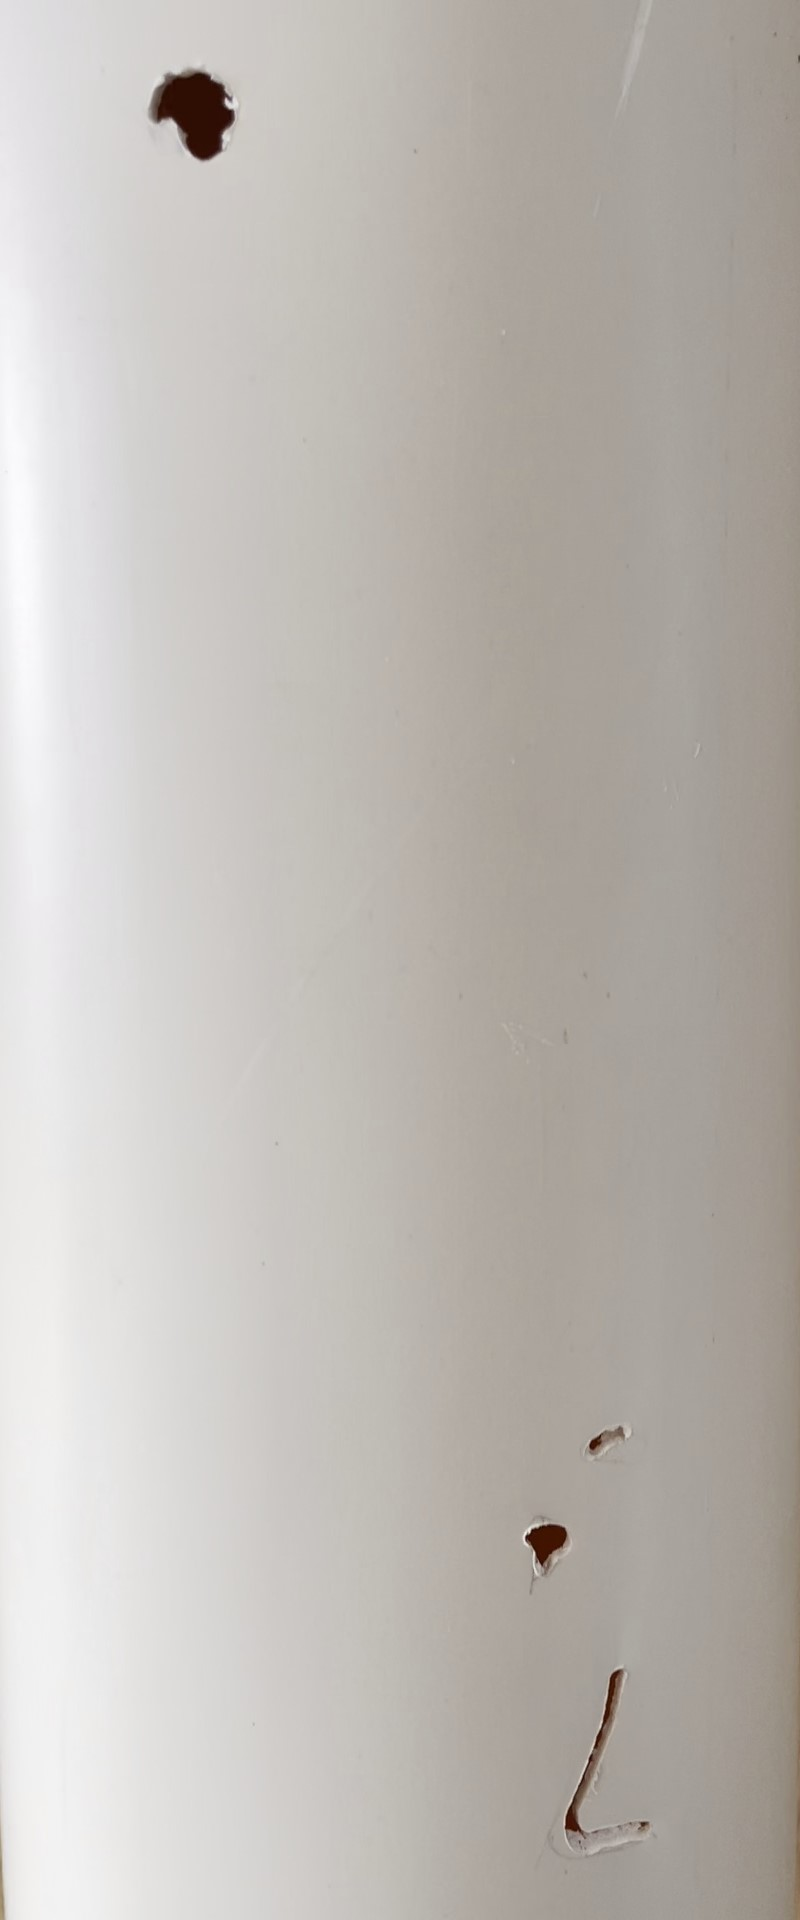fengxi: (548, 1649, 666, 1862)
kongdong: (141, 51, 247, 171), (511, 1504, 584, 1597), (577, 1404, 636, 1464)
